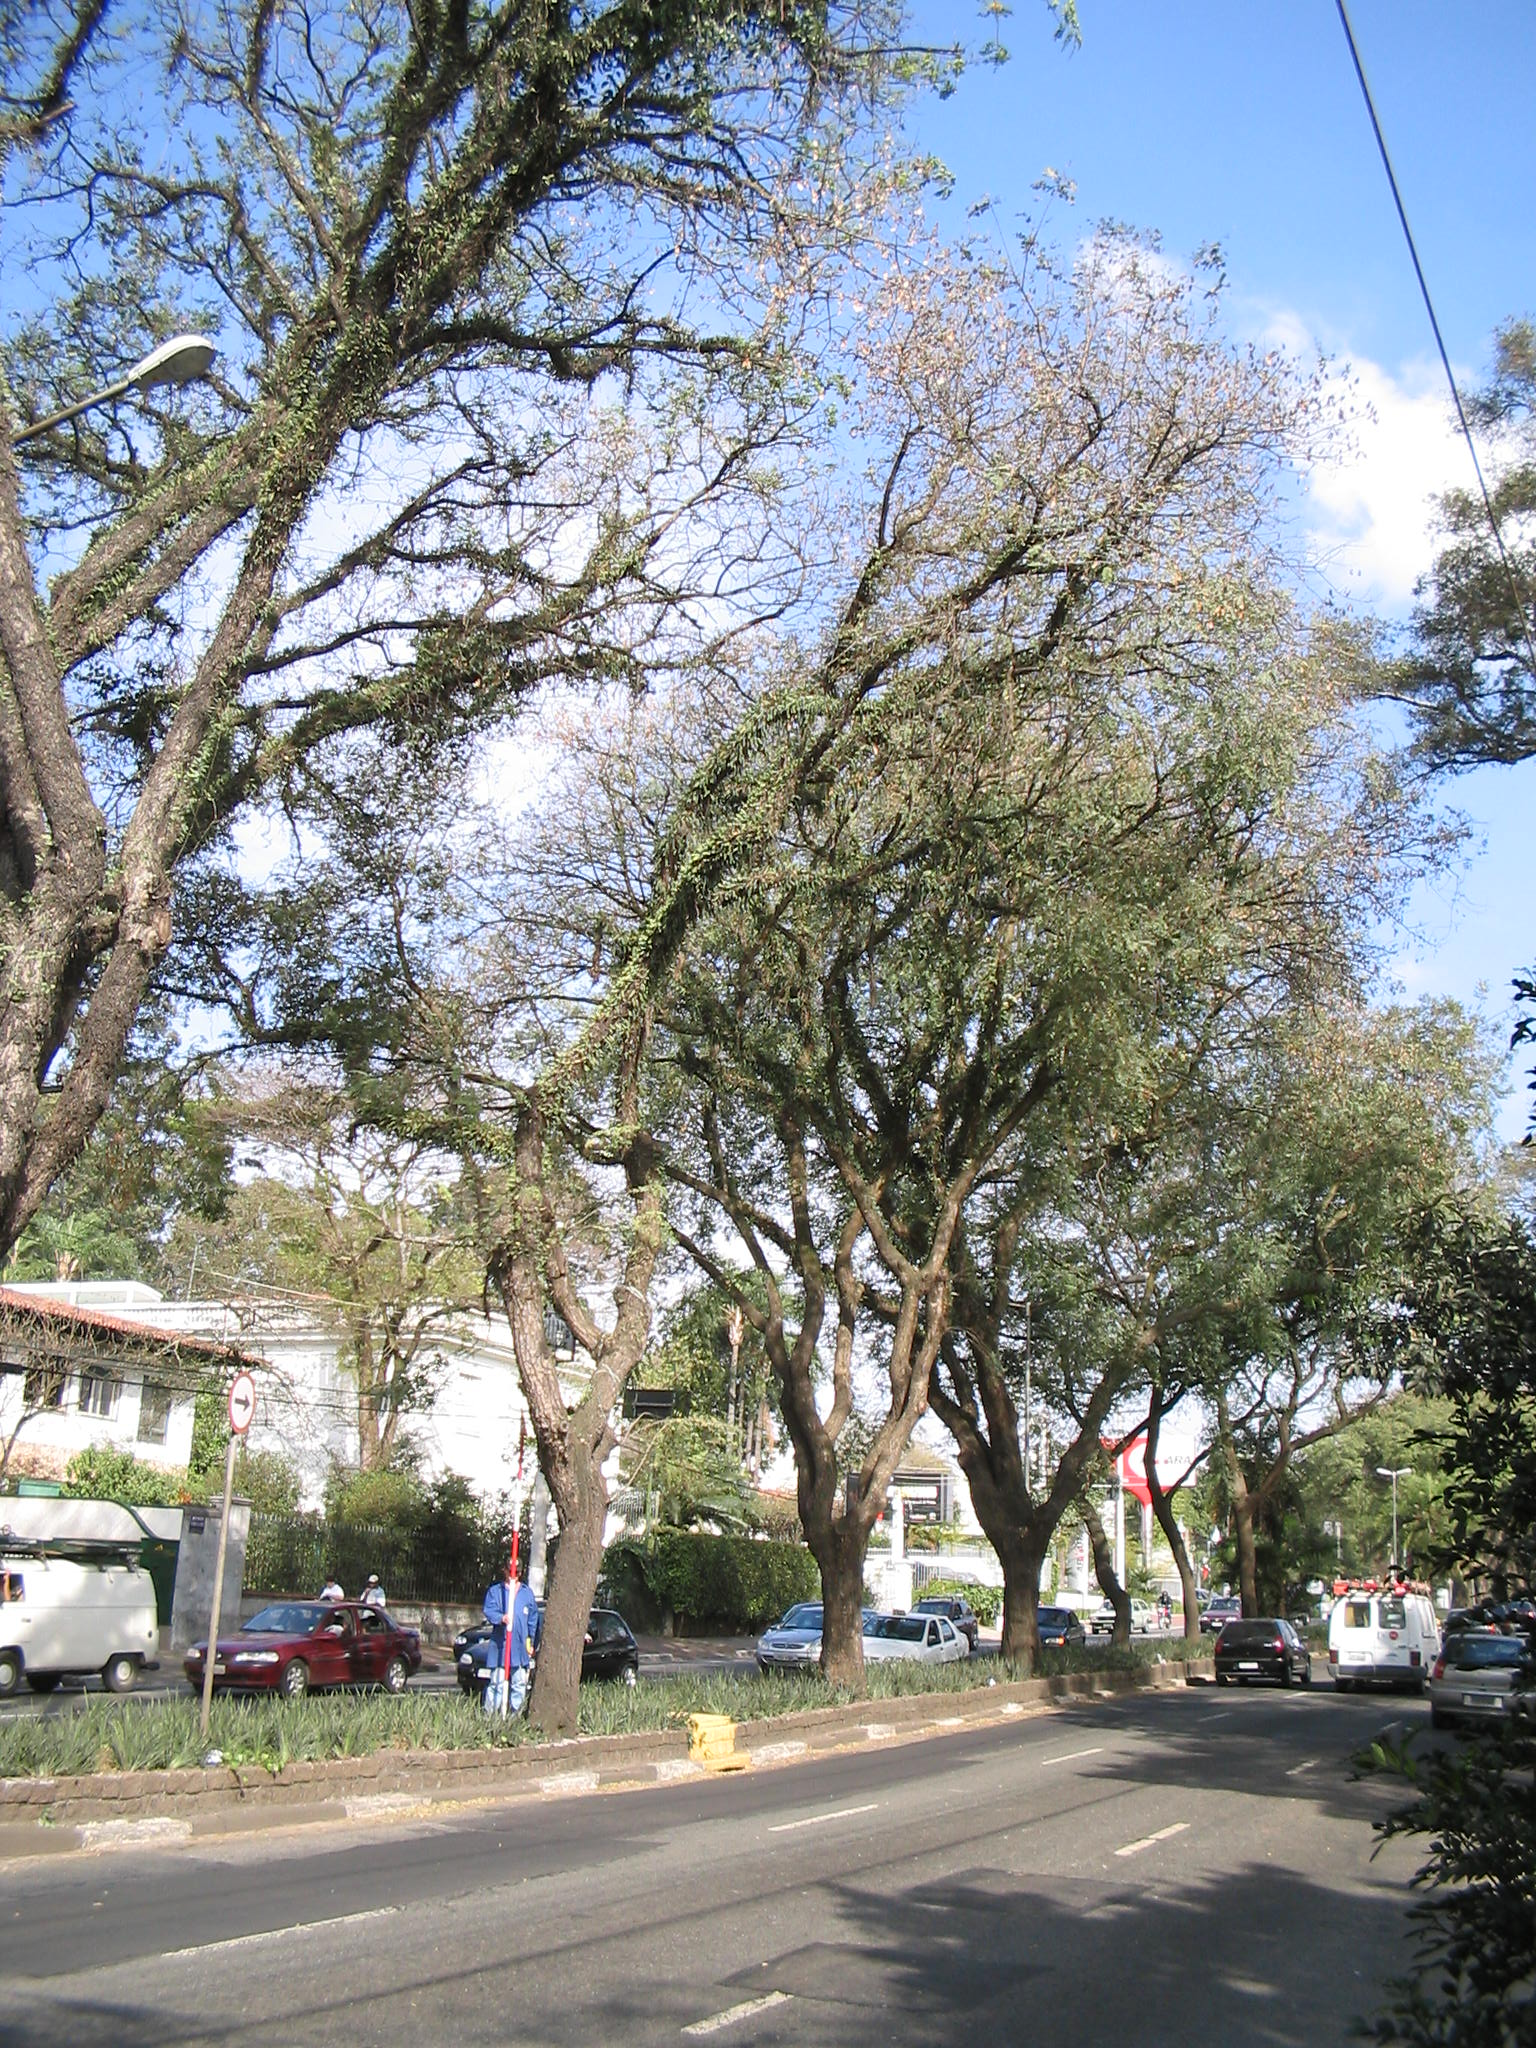stem: (520, 1463, 657, 1734), (791, 1546, 886, 1695), (970, 1550, 1070, 1658)
tree: (6, 3, 1049, 1750), (237, 192, 1388, 1742), (574, 563, 1483, 1692), (913, 979, 1497, 1655)
